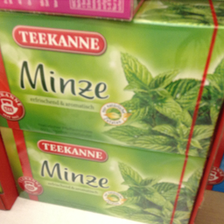tea: (2, 11, 224, 135), (1, 126, 210, 224)
